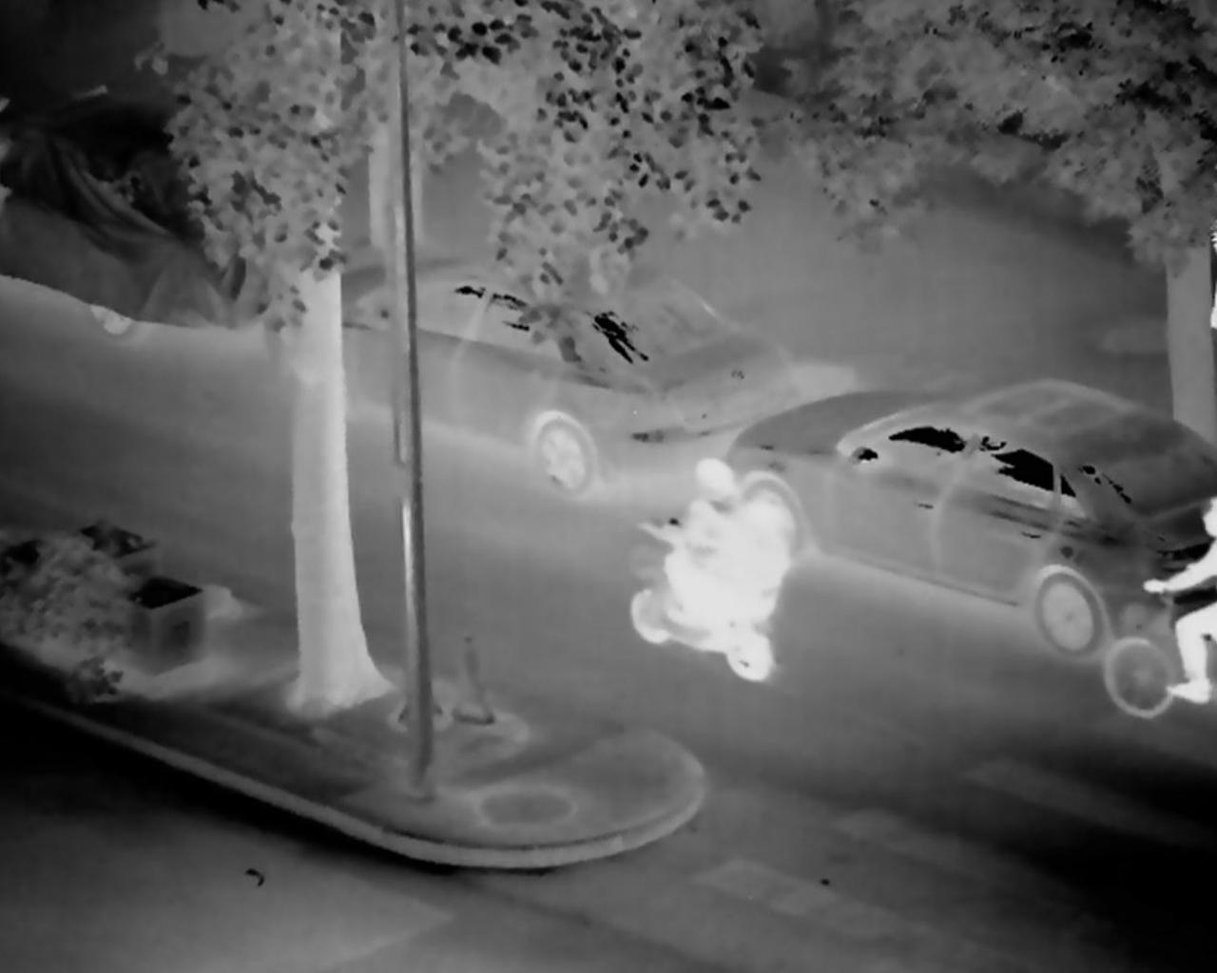person: (640, 454, 747, 658), (710, 488, 782, 646)
